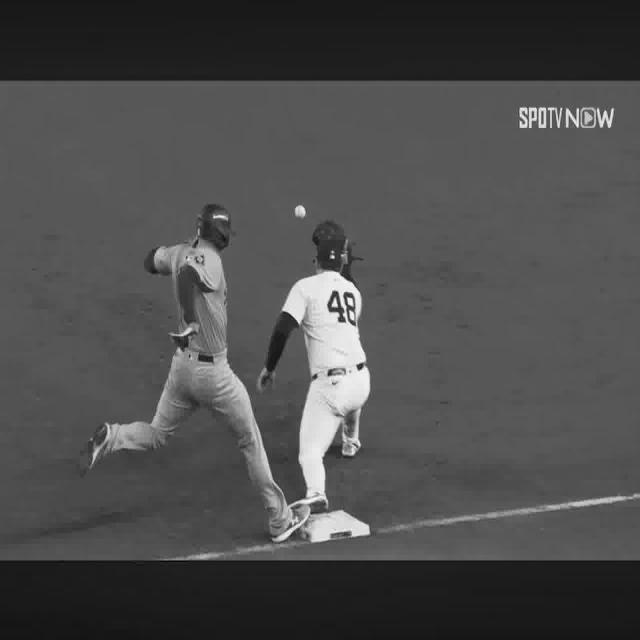base: (299, 510, 370, 543)
baseball: (295, 204, 307, 220)
baseball_glove: (312, 220, 354, 276)
shoe: (80, 422, 111, 475), (270, 505, 310, 543), (291, 490, 329, 513), (344, 438, 359, 453)
